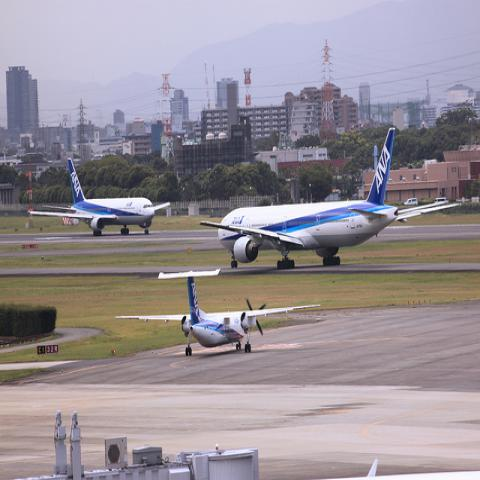car: (404, 197, 418, 205), (434, 197, 449, 204)
